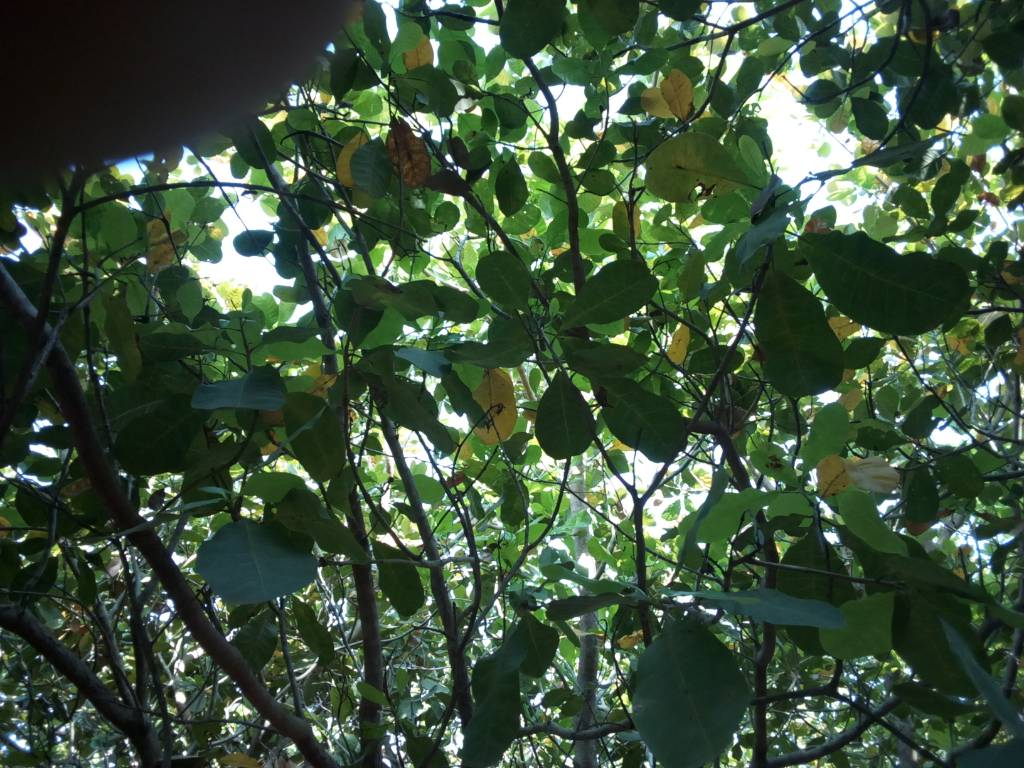Anthracnose: (639, 133, 760, 200)
